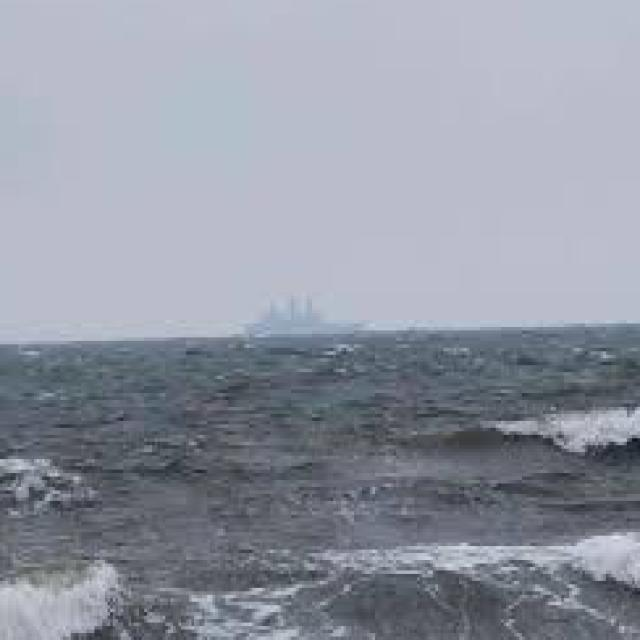fishing boat: (252, 276, 347, 351)
